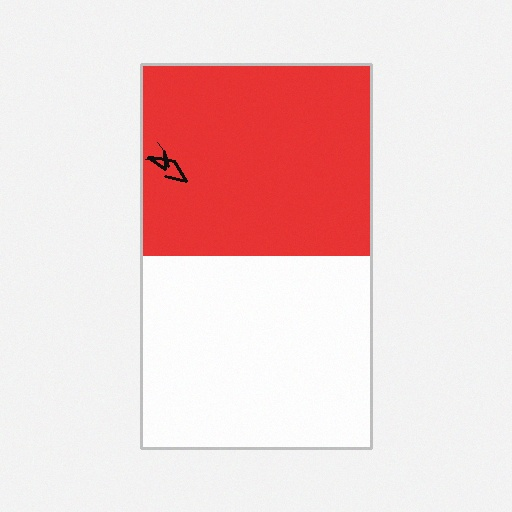crack: (141, 138, 190, 185)
